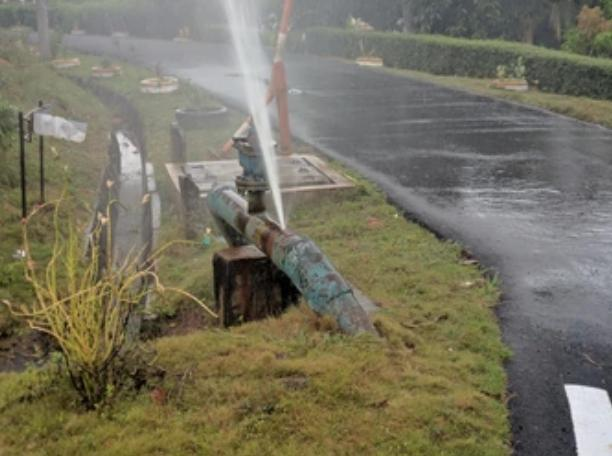pipe burst: (221, 0, 292, 230)
water accumulation: (267, 45, 612, 226)
